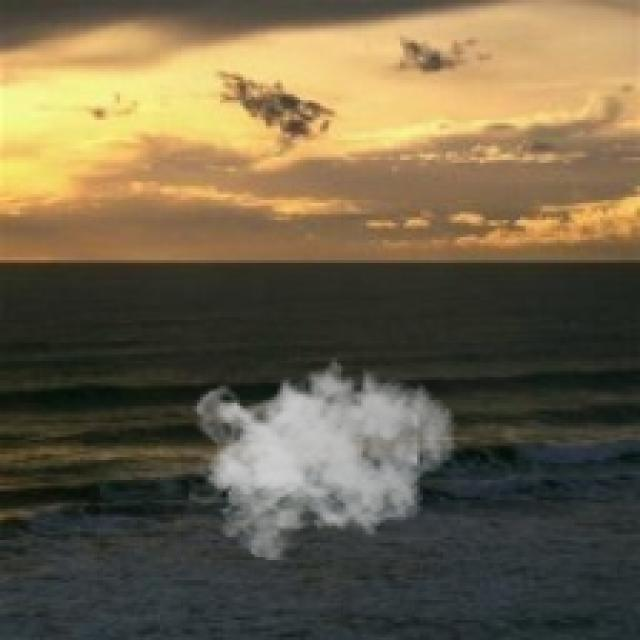smoke: (189, 349, 457, 560)
